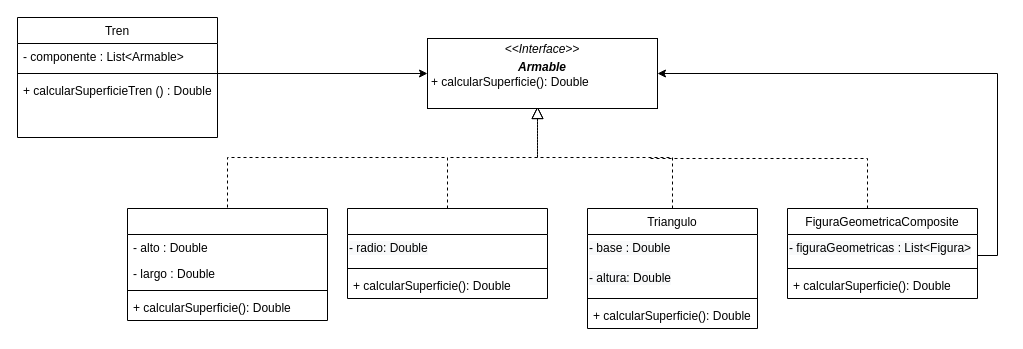
The diagram is 1023 pixels wide and 349 high, and some of its shapes have lost their labels. The box of each missing label's shape, as (x1, y1, x2, y2) in pixels:
Circulo: (346, 208, 548, 298)
Rectangulo: (126, 208, 328, 320)
